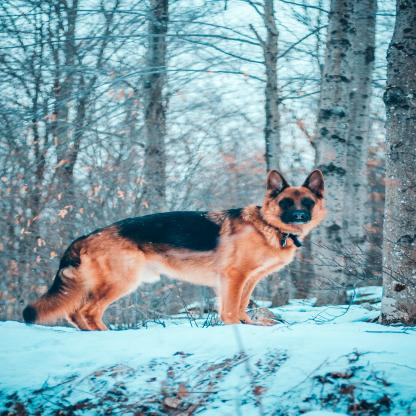german shepherd: (31, 167, 331, 330)
